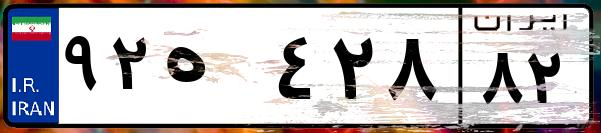2: (330, 28, 385, 110), (525, 38, 570, 115), (110, 28, 158, 98)
4: (270, 28, 330, 110)
8: (385, 28, 445, 110), (475, 38, 525, 113)
9: (57, 26, 110, 100)
ه: (158, 20, 270, 120)
